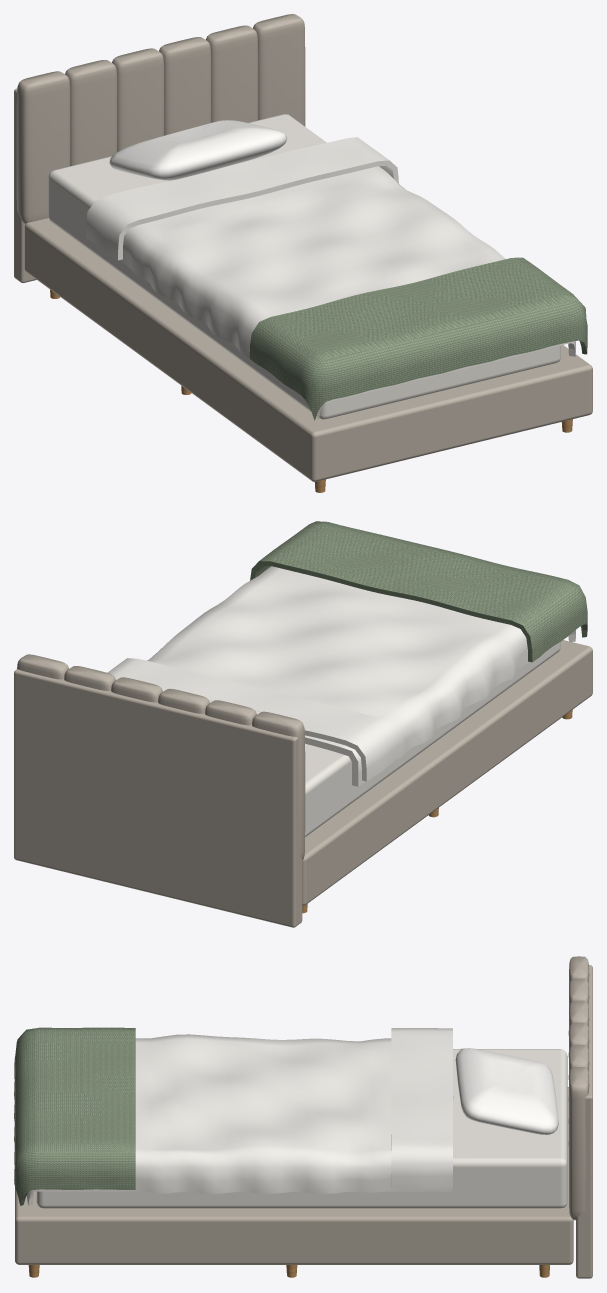
The model's file is bed_single.glb.
3 renders of one model, top to bottom at view 1: azimuth 30°, elevation 25°; view 2: azimuth 150°, elevation 25°; view 3: azimuth 270°, elevation 25°, orthographic. The views are drawn at different scales.
Parts seen in each view (by area): view 1: bed_single_duvet, bed_single_frame, bed_single_throw, bed_single_headboard_channels, bed_single_mattress, bed_single_duvet_fold, bed_single_pillow, bed_single_headboard; view 2: bed_single_headboard, bed_single_duvet, bed_single_frame, bed_single_throw, bed_single_duvet_fold, bed_single_headboard_channels, bed_single_mattress; view 3: bed_single_duvet, bed_single_frame, bed_single_throw, bed_single_mattress, bed_single_duvet_fold, bed_single_pillow, bed_single_headboard_channels, bed_single_headboard.
Boxes of the visible parts, box(x1,y1,x2,y2) form: bed_single_duvet: box(119, 166, 575, 418); bed_single_frame: box(24, 218, 592, 481); bed_single_throw: box(249, 257, 587, 420); bed_single_headboard_channels: box(16, 14, 305, 223); bed_single_mattress: box(48, 114, 560, 419); bed_single_duvet_fold: box(86, 137, 398, 260); bed_single_pillow: box(109, 120, 287, 180); bed_single_headboard: box(14, 88, 36, 282); bed_single_headboard: box(14, 669, 302, 927); bed_single_duvet: box(147, 566, 575, 786); bed_single_frame: box(302, 640, 592, 905); bed_single_throw: box(250, 521, 587, 662); bed_single_duvet_fold: box(107, 658, 398, 781); bed_single_headboard_channels: box(17, 654, 305, 859); bed_single_mattress: box(305, 642, 560, 836); bed_single_duvet: box(26, 1034, 451, 1205); bed_single_frame: box(15, 1087, 573, 1264); bed_single_throw: box(14, 1027, 135, 1205); bed_single_mattress: box(36, 1049, 567, 1208); bed_single_duvet_fold: box(391, 1028, 453, 1188); bed_single_pillow: box(455, 1048, 558, 1134); bed_single_headboard_channels: box(568, 956, 589, 1220); bed_single_headboard: box(576, 965, 592, 1278).
Size of the model in its own units: 1.3 by 0.9 by 2.4.
6 materials, 2 textured.
